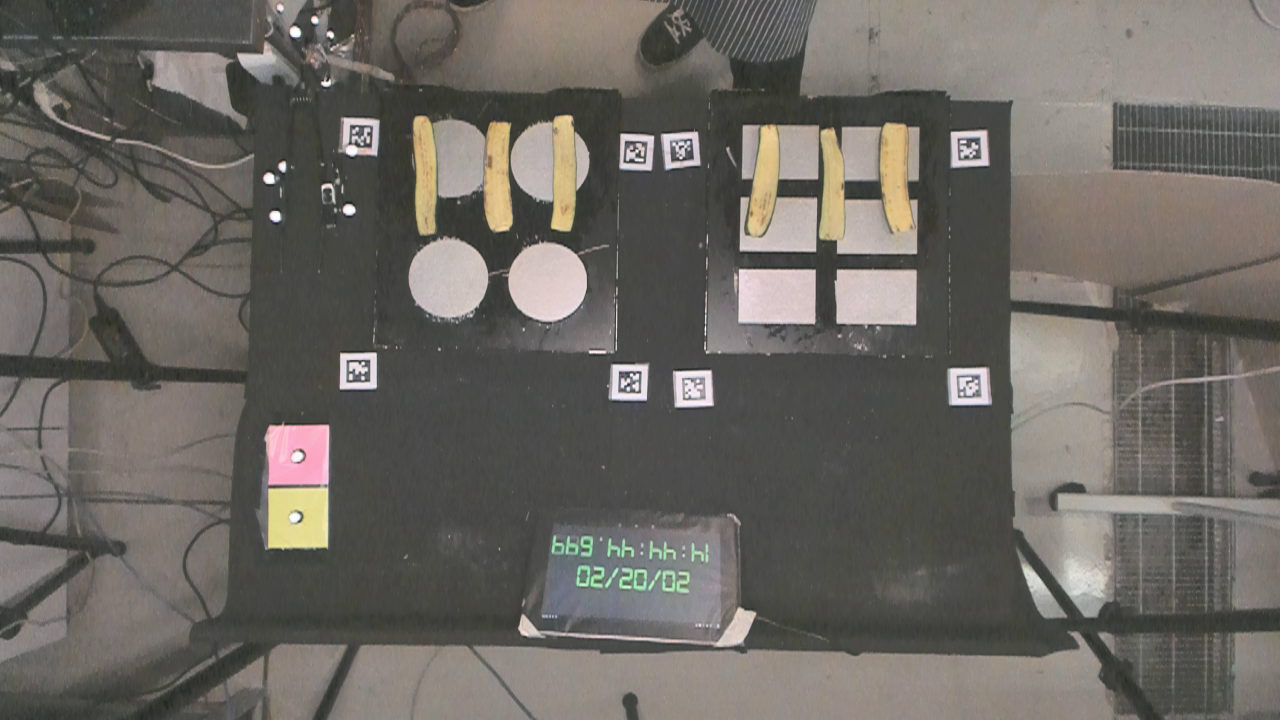marker: (270, 423, 331, 488)
zucchini: (880, 115, 919, 235), (745, 119, 781, 244), (481, 111, 512, 237), (547, 108, 578, 233), (410, 111, 439, 241), (818, 124, 845, 245)
